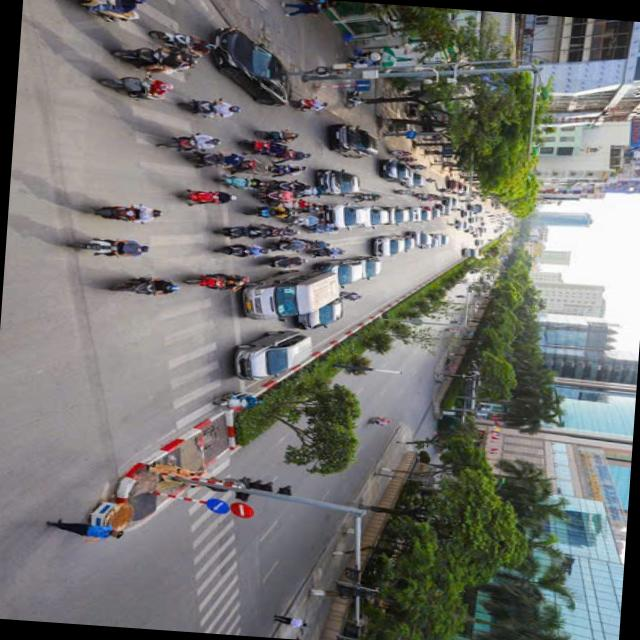Truck: (241, 270, 337, 319)
car: (215, 28, 291, 105), (235, 331, 310, 379), (319, 124, 379, 154), (293, 298, 344, 330), (312, 169, 364, 195), (325, 205, 363, 230), (328, 254, 357, 284), (356, 202, 384, 228), (377, 162, 408, 182), (356, 258, 384, 278), (373, 237, 404, 255), (420, 232, 433, 250), (380, 208, 393, 225), (458, 248, 475, 258), (393, 209, 406, 222), (441, 196, 457, 206), (420, 206, 432, 218), (410, 208, 420, 222), (402, 236, 412, 248), (455, 221, 468, 230), (435, 205, 446, 215), (446, 182, 458, 191), (412, 231, 420, 244), (460, 211, 469, 220)
motobyte: (43, 0, 147, 27), (68, 236, 146, 259), (109, 272, 173, 300), (96, 73, 167, 98), (152, 28, 208, 52), (110, 49, 182, 66), (184, 270, 243, 290), (156, 134, 214, 153), (180, 96, 234, 115), (212, 390, 258, 412), (188, 149, 234, 167), (254, 124, 297, 143), (218, 224, 266, 241), (180, 190, 233, 204), (226, 158, 272, 173), (262, 253, 305, 268), (217, 243, 264, 256), (242, 138, 280, 154), (286, 96, 324, 112), (214, 175, 260, 188), (267, 162, 306, 176), (269, 148, 310, 161), (260, 224, 298, 238), (246, 205, 286, 218), (266, 178, 307, 190), (296, 201, 329, 215), (272, 198, 310, 210), (266, 240, 303, 252), (254, 189, 294, 200), (304, 222, 332, 236), (296, 184, 324, 197), (282, 215, 316, 225), (306, 246, 338, 256), (348, 194, 374, 204), (335, 292, 360, 302), (299, 242, 327, 250), (390, 188, 412, 196), (394, 156, 414, 161), (412, 192, 427, 198), (426, 193, 437, 200), (389, 150, 408, 154), (408, 164, 422, 168), (438, 188, 448, 192), (445, 224, 458, 226)
